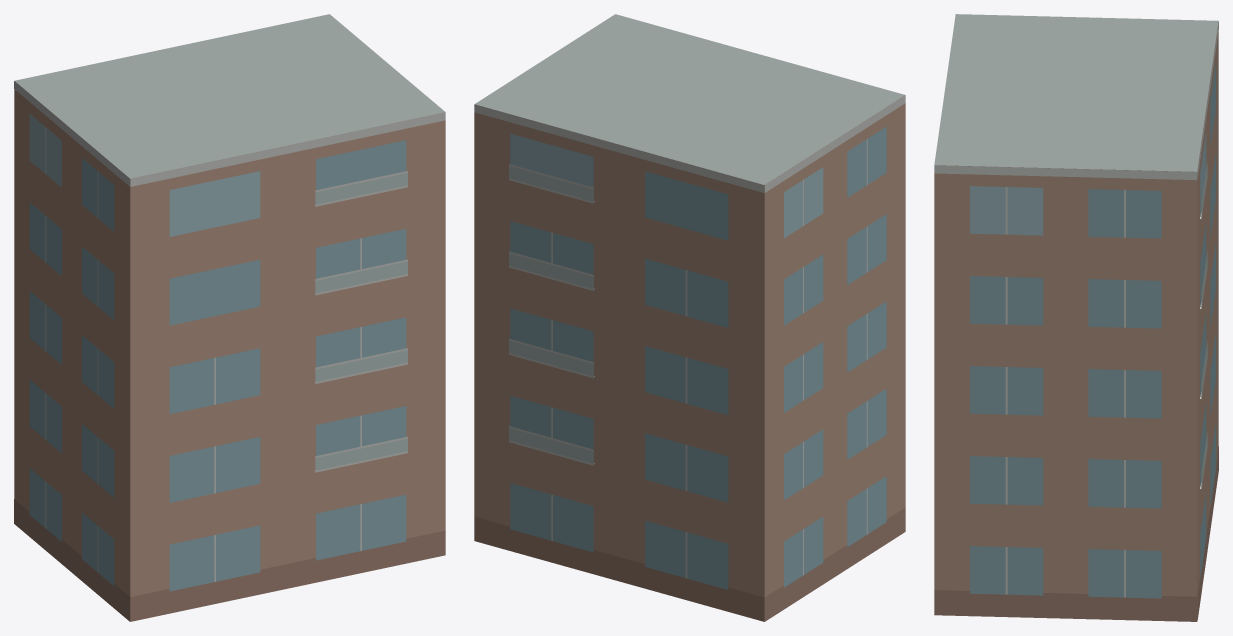
File: survey-upis-32711435.glb
The picture shows the model from 3 angles, left to right: view 1: azimuth 30°, elevation 25°; view 2: azimuth 150°, elevation 25°; view 3: azimuth 270°, elevation 25°; orthographic projection. The views are drawn at different scales.
Visible parts, largest first — view 1: survey-upis-32711435.tmp; view 2: survey-upis-32711435.tmp; view 3: survey-upis-32711435.tmp.
Boxes of the visible parts, <box> form: survey-upis-32711435.tmp: <box>14,14,445,621</box>; survey-upis-32711435.tmp: <box>474,14,905,621</box>; survey-upis-32711435.tmp: <box>934,14,1218,621</box>.
Size of the model in its own units: 9.94 by 13.2 by 7.57.
